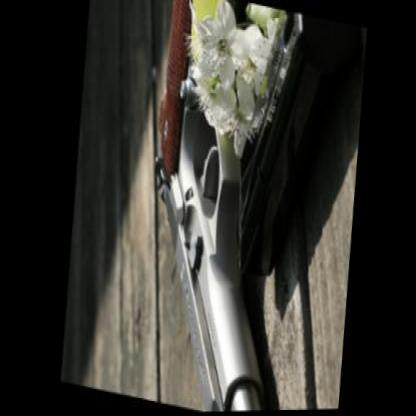pistol: (123, 0, 312, 411)
